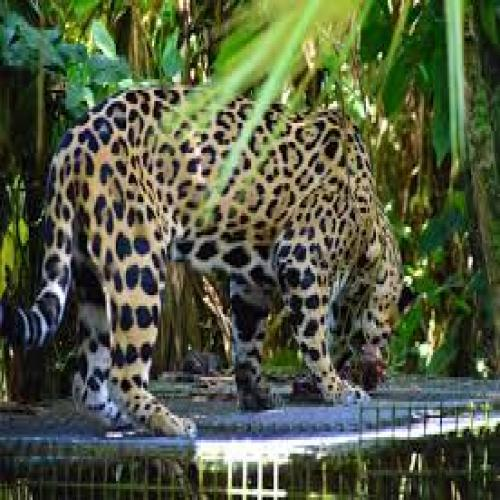jaguar_not-endangered: (0, 84, 399, 442)
